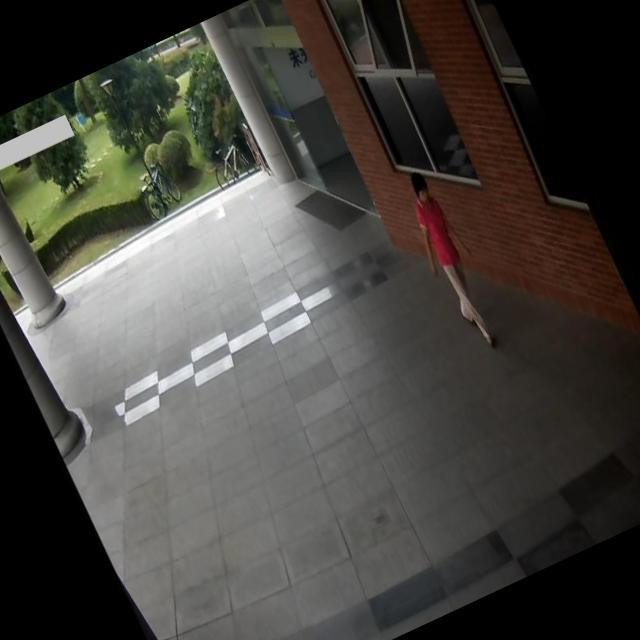person: (381, 153, 522, 369)
